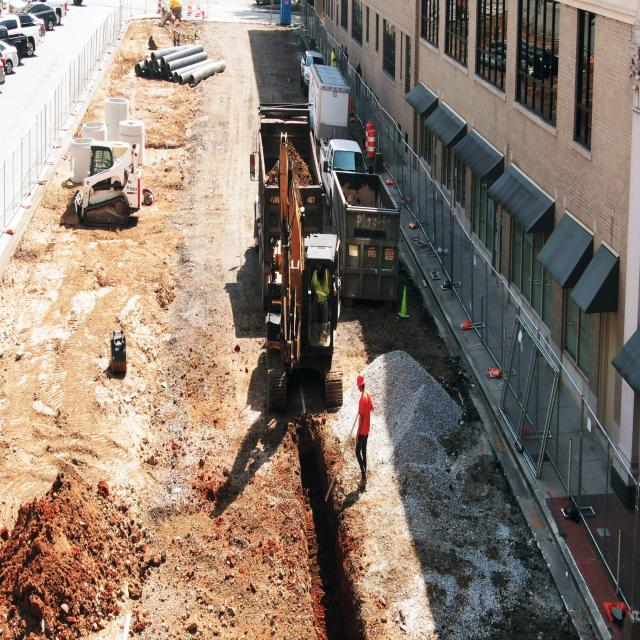machinery: (269, 219, 344, 411), (248, 91, 329, 222), (74, 132, 144, 226)
worker: (353, 366, 374, 495)
